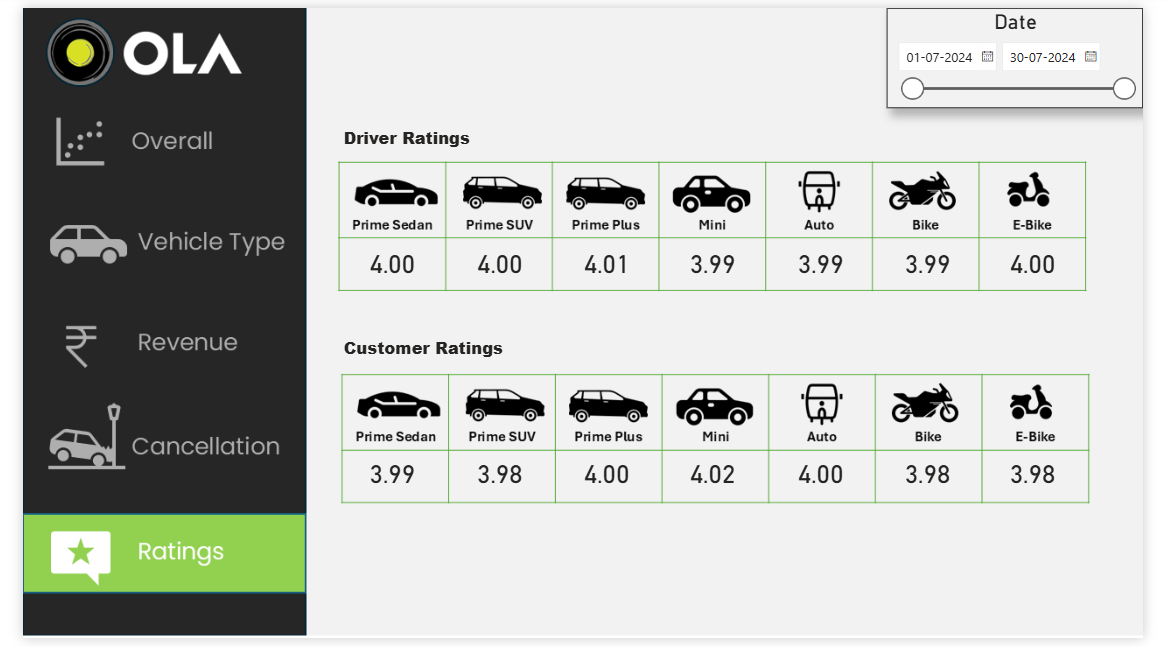

The page's visual inventory and layout, read from the dashboard file:
{"tool":"powerbi","page":{"name":"Ratings","canvas":[1280,720],"ordinal":4},"visuals":[{"type":"actionButton","box":[0,104.4,326.7,88.4],"z":0},{"type":"actionButton","box":[0,229.2,326.9,89.3],"z":1000},{"type":"actionButton","box":[0,340.1,326.7,91],"z":2000},{"type":"actionButton","box":[0,452.6,326.7,91],"z":3000},{"type":"slicer","title":"Date","fields":{"Values":["July.Date"]},"box":[986.9,0,293.2,114.6],"z":4000},{"type":"card","fields":{"Values":["Avg(July.Driver_Ratings)"]},"box":[361.9,264.2,121.9,76],"z":5000},{"type":"card","fields":{"Values":["Avg(July.Driver_Ratings)"]},"box":[483.8,264.2,121.9,76],"z":6000},{"type":"card","fields":{"Values":["Avg(July.Driver_Ratings)"]},"box":[848.1,264.2,126.7,76],"z":7000},{"type":"card","fields":{"Values":["Avg(July.Driver_Ratings)"]},"box":[1094.2,264.2,119.4,76],"z":8000},{"type":"card","fields":{"Values":["Avg(July.Driver_Ratings)"]},"box":[974.8,264.2,119.4,76],"z":9000},{"type":"card","fields":{"Values":["Avg(July.Driver_Ratings)"]},"box":[728.7,264.2,119.4,76],"z":10000},{"type":"card","fields":{"Values":["Avg(July.Driver_Ratings)"]},"box":[605.6,264.2,123.1,76],"z":11000},{"type":"textbox","box":[361.9,130.3,203.9,39.8],"z":12000},{"type":"textbox","box":[361.9,370.4,219.6,38.6],"z":13000},{"type":"card","fields":{"Values":["Avg(July.Customer_Rating)"]},"box":[848.1,504.3,126.7,76],"z":14000},{"type":"card","fields":{"Values":["Avg(July.Customer_Rating)"]},"box":[728.7,504.3,119.4,76],"z":15000},{"type":"card","fields":{"Values":["Avg(July.Customer_Rating)"]},"box":[974.8,504.3,119.4,76],"z":16000},{"type":"card","fields":{"Values":["Avg(July.Customer_Rating)"]},"box":[1094.2,504.3,119.4,76],"z":17000},{"type":"card","fields":{"Values":["Avg(July.Customer_Rating)"]},"box":[605.6,504.3,123.1,76],"z":18000},{"type":"card","fields":{"Values":["Avg(July.Customer_Rating)"]},"box":[483.8,504.3,121.9,76],"z":19000},{"type":"card","fields":{"Values":["Avg(July.Customer_Rating)"]},"box":[361.9,504.3,121.9,76],"z":20000}]}

Visuals, with their boxes in screenshot pixels (x1, y1, x2, y2), scaled from the page's 1280x720 canvas onto the 1170x647 screenshot:
actionButton: left=0, top=94, right=299, bottom=173
actionButton: left=0, top=206, right=299, bottom=286
actionButton: left=0, top=306, right=299, bottom=387
actionButton: left=0, top=407, right=299, bottom=488
"Date" slicer: left=902, top=0, right=1169, bottom=103
card - Avg(July.Driver_Ratings): left=331, top=237, right=442, bottom=306
card - Avg(July.Driver_Ratings): left=442, top=237, right=554, bottom=306
card - Avg(July.Driver_Ratings): left=775, top=237, right=891, bottom=306
card - Avg(July.Driver_Ratings): left=1000, top=237, right=1109, bottom=306
card - Avg(July.Driver_Ratings): left=891, top=237, right=1000, bottom=306
card - Avg(July.Driver_Ratings): left=666, top=237, right=775, bottom=306
card - Avg(July.Driver_Ratings): left=554, top=237, right=666, bottom=306
textbox: left=331, top=117, right=517, bottom=153
textbox: left=331, top=333, right=532, bottom=368
card - Avg(July.Customer_Rating): left=775, top=453, right=891, bottom=521
card - Avg(July.Customer_Rating): left=666, top=453, right=775, bottom=521
card - Avg(July.Customer_Rating): left=891, top=453, right=1000, bottom=521
card - Avg(July.Customer_Rating): left=1000, top=453, right=1109, bottom=521
card - Avg(July.Customer_Rating): left=554, top=453, right=666, bottom=521
card - Avg(July.Customer_Rating): left=442, top=453, right=554, bottom=521
card - Avg(July.Customer_Rating): left=331, top=453, right=442, bottom=521
